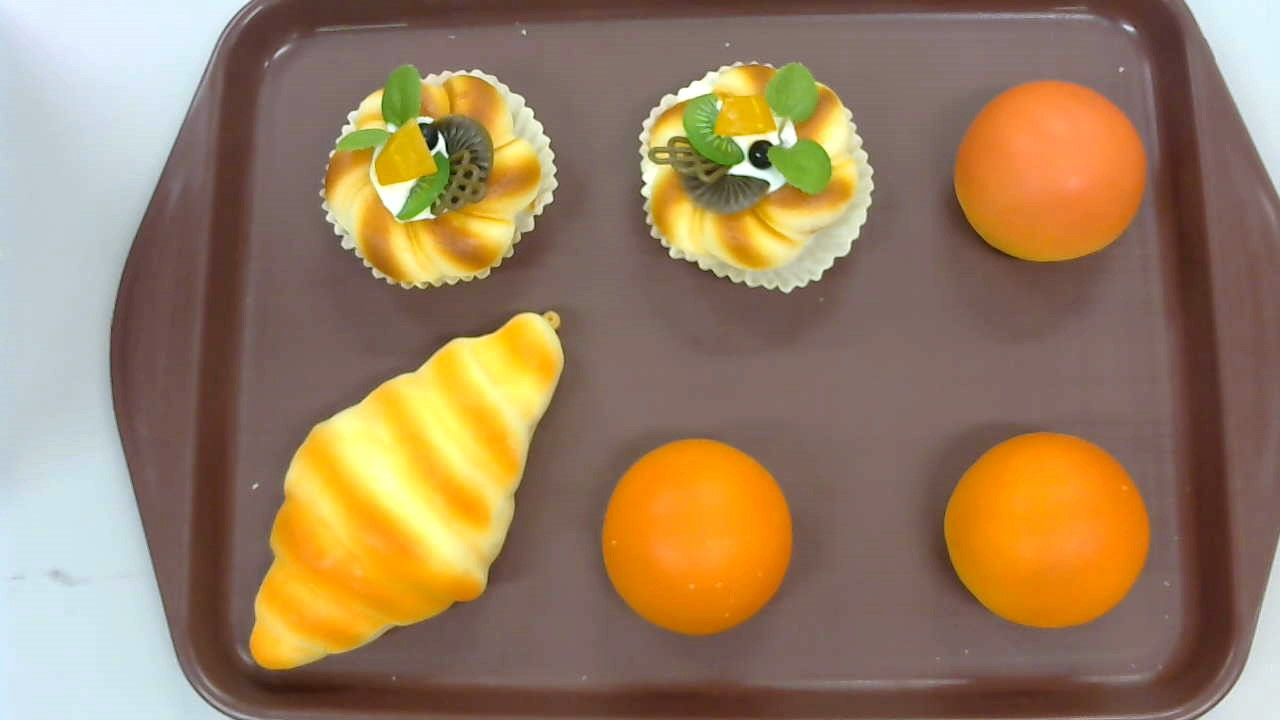bun: (942, 430, 1151, 628), (601, 437, 793, 637), (953, 78, 1150, 264)
croissant: (249, 310, 565, 670)
fruit tart: (638, 59, 875, 297), (319, 64, 560, 291)
